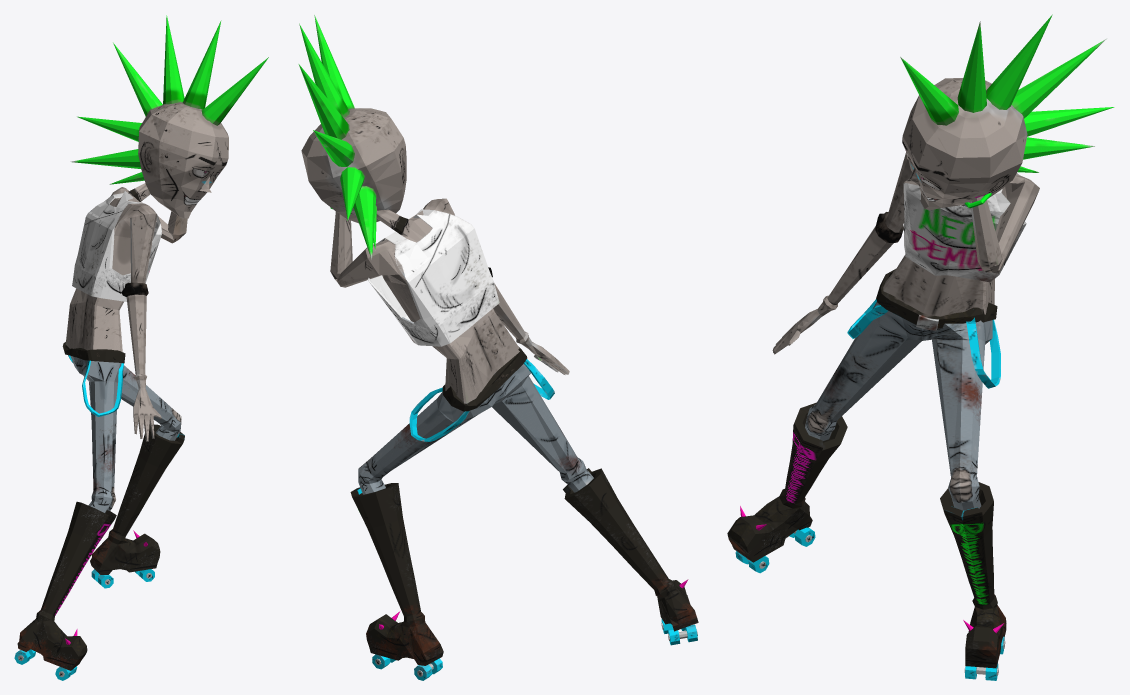
Rendered from punkAnimation_000073.obj.
The picture shows the model from 3 angles, left to right: view 1: azimuth 30°, elevation 25°; view 2: azimuth 150°, elevation 25°; view 3: azimuth 270°, elevation 25°; orthographic projection. The views are drawn at different scales.
Parts seen in each view (by area): view 1: Cube.004_Cube.003; view 2: Cube.004_Cube.003; view 3: Cube.004_Cube.003.
Part boxes in pixels (x1,y1,x2,y2): Cube.004_Cube.003: (14, 15, 268, 680); Cube.004_Cube.003: (298, 15, 698, 680); Cube.004_Cube.003: (727, 14, 1114, 680).
Bounding box in the file's own units: 3.77 × 6.6 × 3.28.
